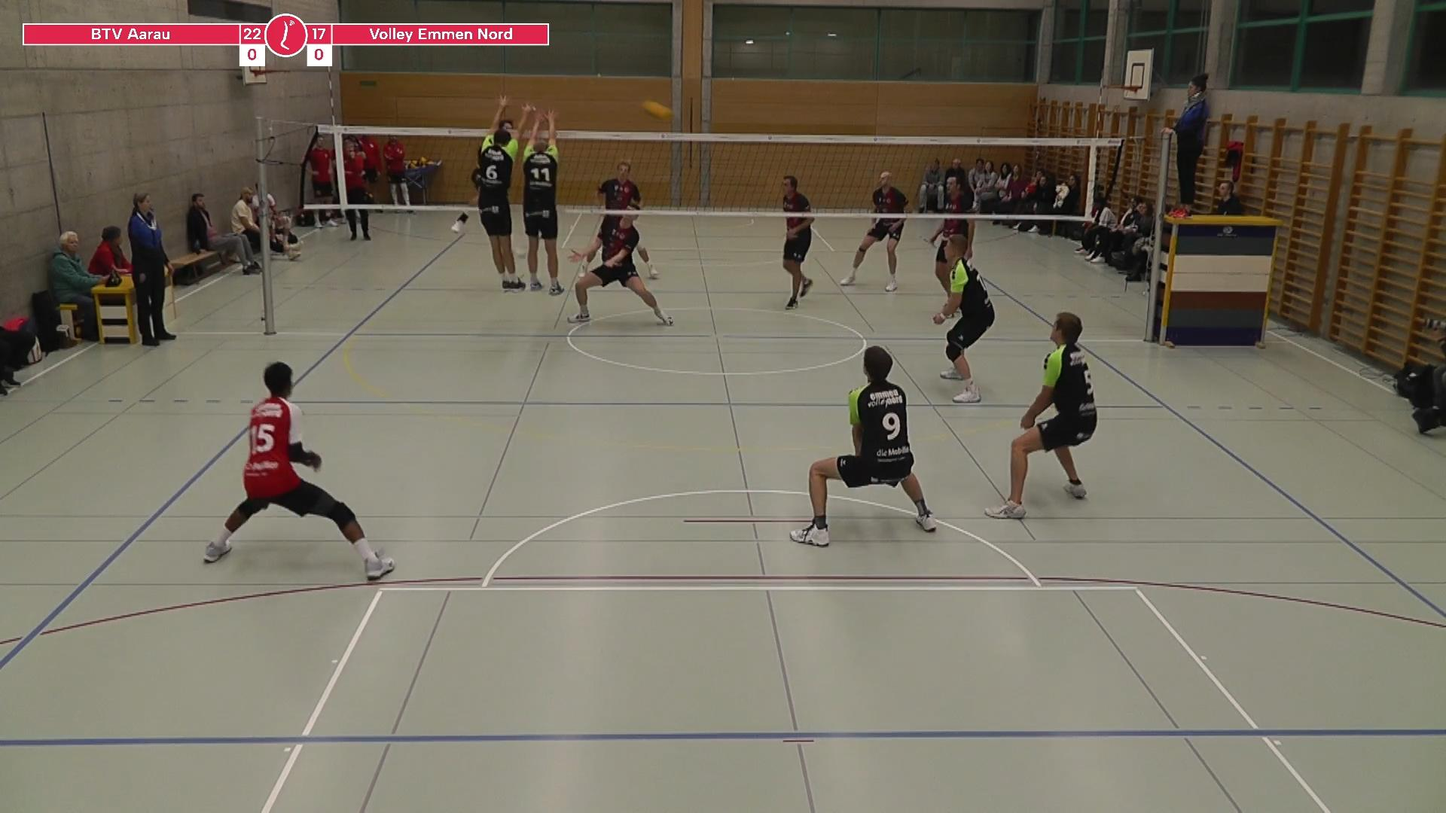muro: (469, 93, 552, 291), (503, 100, 571, 293)
